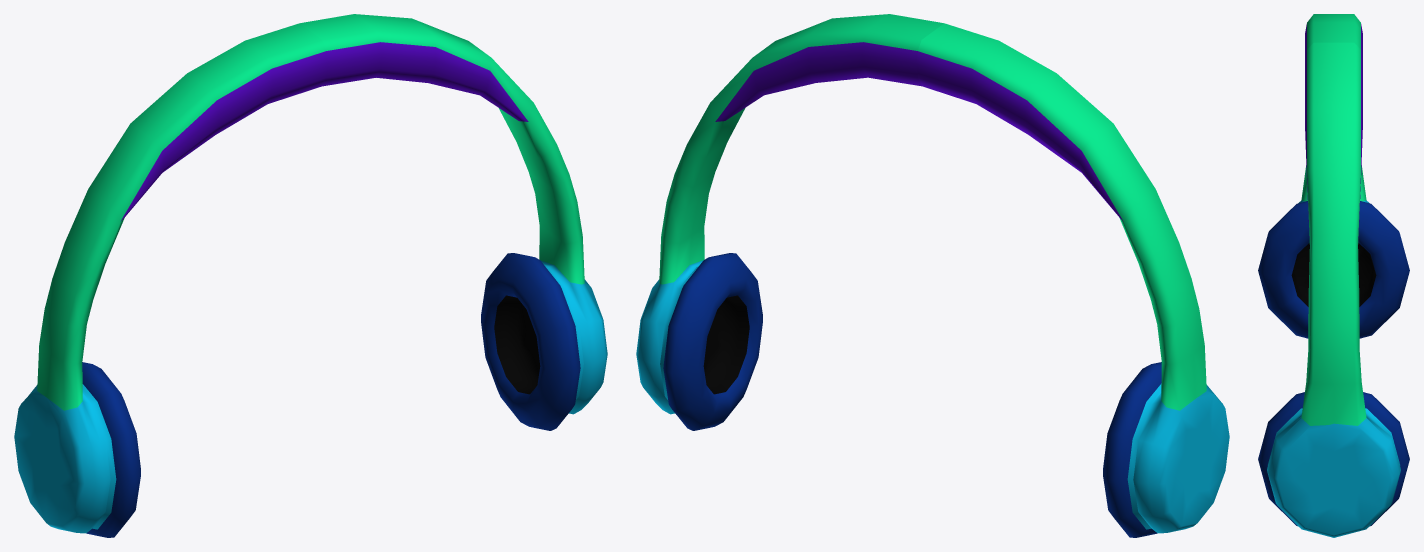
Rendered from headphone.fbx.
3 renders of one model, left to right at view 1: azimuth 30°, elevation 25°; view 2: azimuth 150°, elevation 25°; view 3: azimuth 270°, elevation 25°, orthographic. The views are drawn at different scales.
Parts seen in each view (by area): view 1: pCylinder5; view 2: pCylinder5; view 3: pCylinder5.
Boxes of the visible parts, bbox=[...] form: pCylinder5: bbox=[14, 14, 607, 537]; pCylinder5: bbox=[636, 14, 1229, 537]; pCylinder5: bbox=[1258, 14, 1409, 537].
Bounding box in the file's own units: 705 × 570 × 198.
